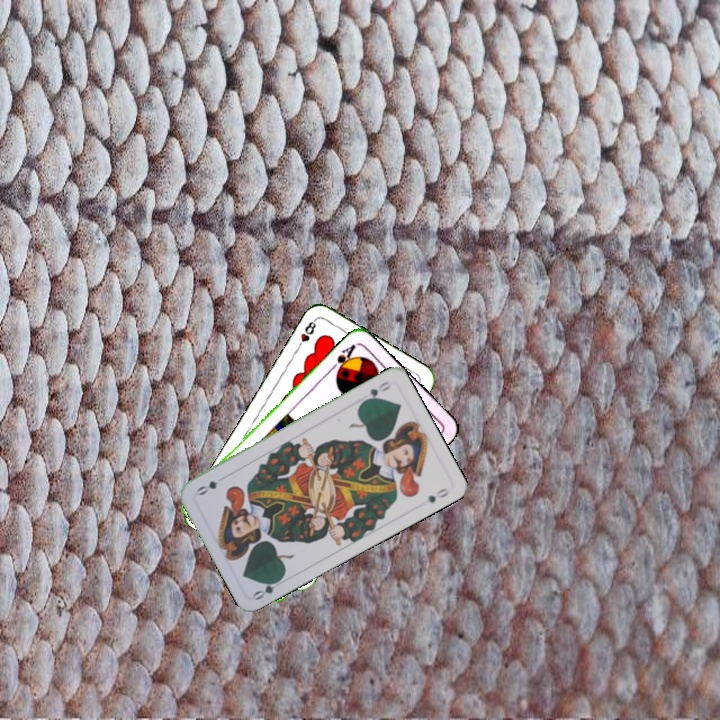GO: (249, 573, 288, 603), (358, 377, 394, 406)
H8: (293, 315, 319, 352)
SA: (327, 340, 359, 376)
